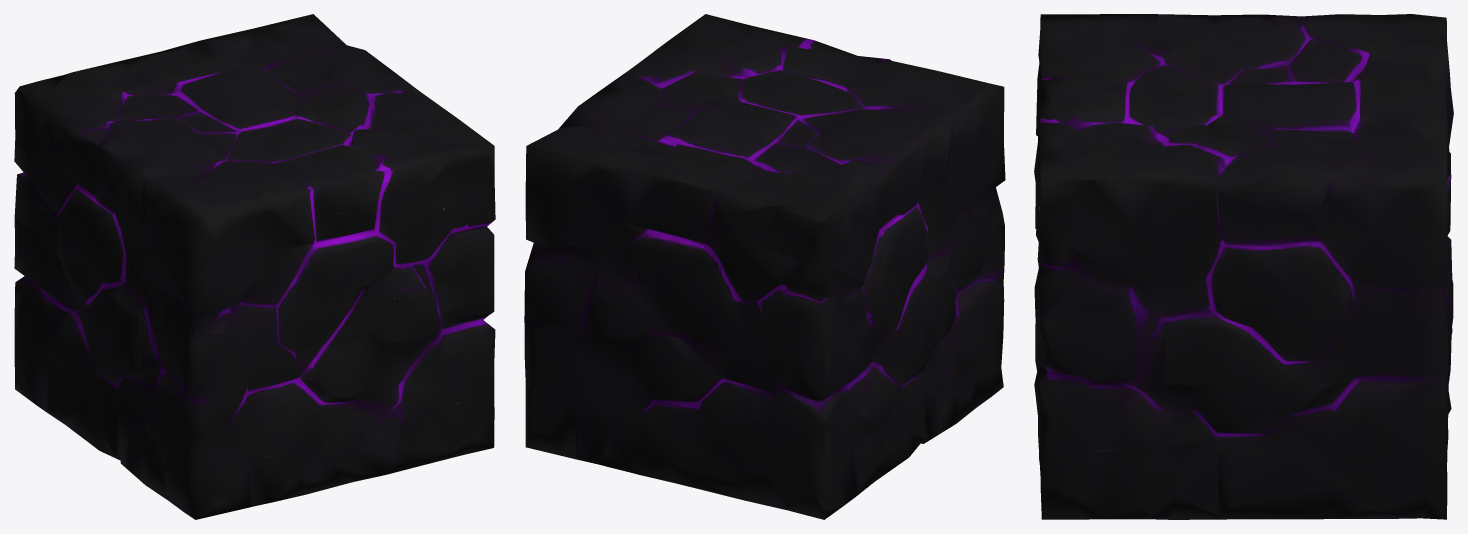
File: Wall_C4_A.glb
The picture shows the model from 3 angles, left to right: view 1: azimuth 30°, elevation 25°; view 2: azimuth 150°, elevation 25°; view 3: azimuth 270°, elevation 25°; orthographic projection. The views are drawn at different scales.
Parts seen in each view (by area): view 1: tripo_node_361ad199-a792-4026-91bb-74a573df4ce0; view 2: tripo_node_361ad199-a792-4026-91bb-74a573df4ce0; view 3: tripo_node_361ad199-a792-4026-91bb-74a573df4ce0.
Boxes of the visible parts, box(x1,y1,x2,y2) form: tripo_node_361ad199-a792-4026-91bb-74a573df4ce0: box(14, 14, 495, 519); tripo_node_361ad199-a792-4026-91bb-74a573df4ce0: box(524, 14, 1005, 519); tripo_node_361ad199-a792-4026-91bb-74a573df4ce0: box(1034, 14, 1453, 519).
Bounding box in the file's own units: 0.9746 × 0.9226 × 1.
Materials: 1 (1 with a texture image).
